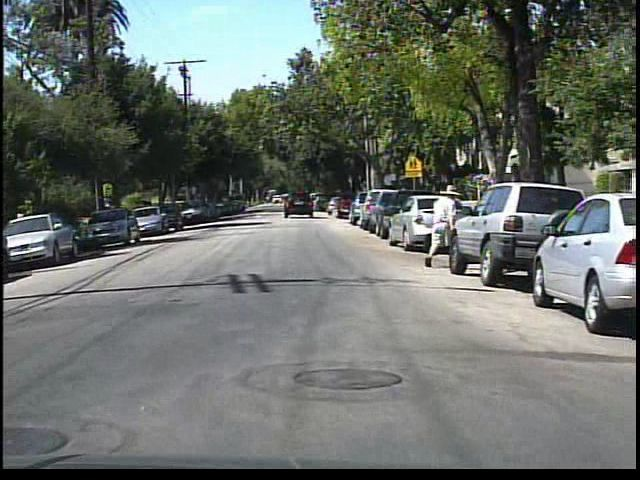person: (420, 181, 464, 270)
